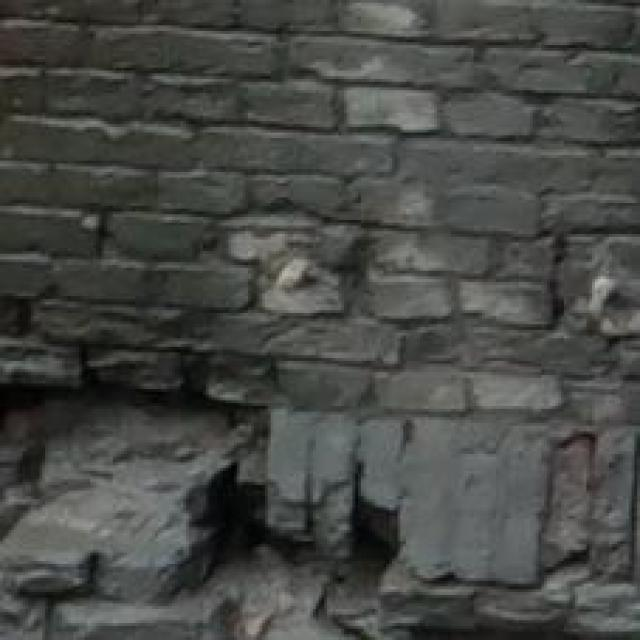Crack: (0, 258, 465, 639)
